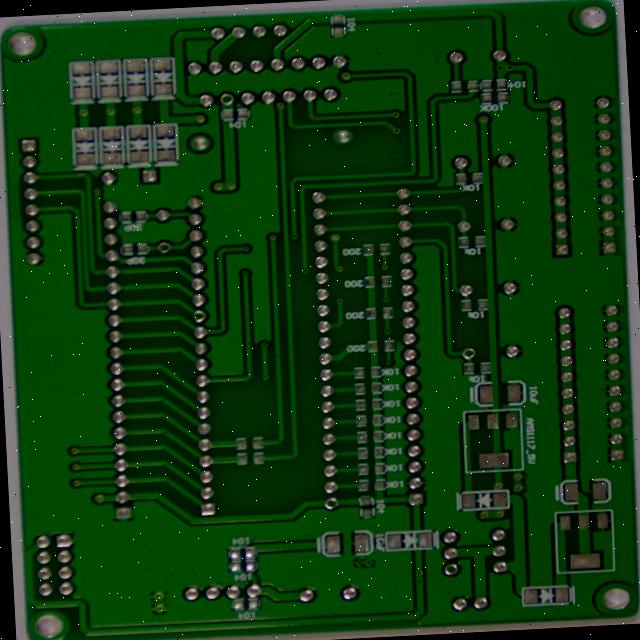missing_hole: (239, 51, 262, 72), (356, 483, 377, 501), (507, 325, 529, 340), (171, 212, 191, 228), (488, 553, 508, 569), (210, 285, 228, 300)
